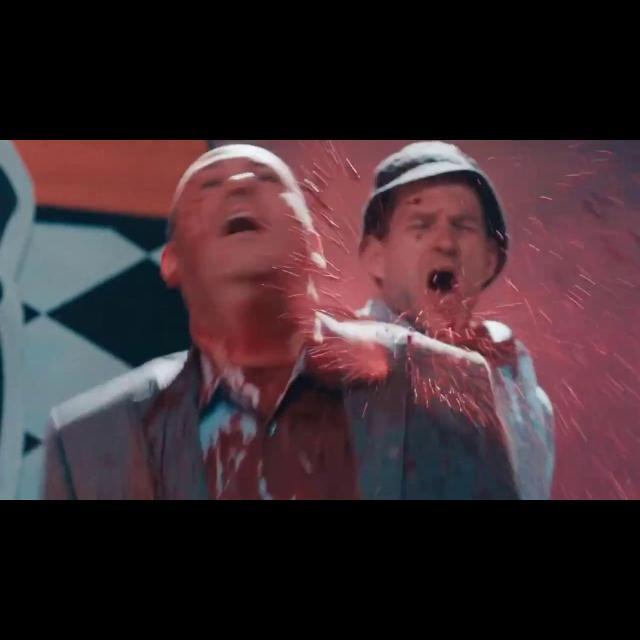blood: (48, 140, 640, 500)
